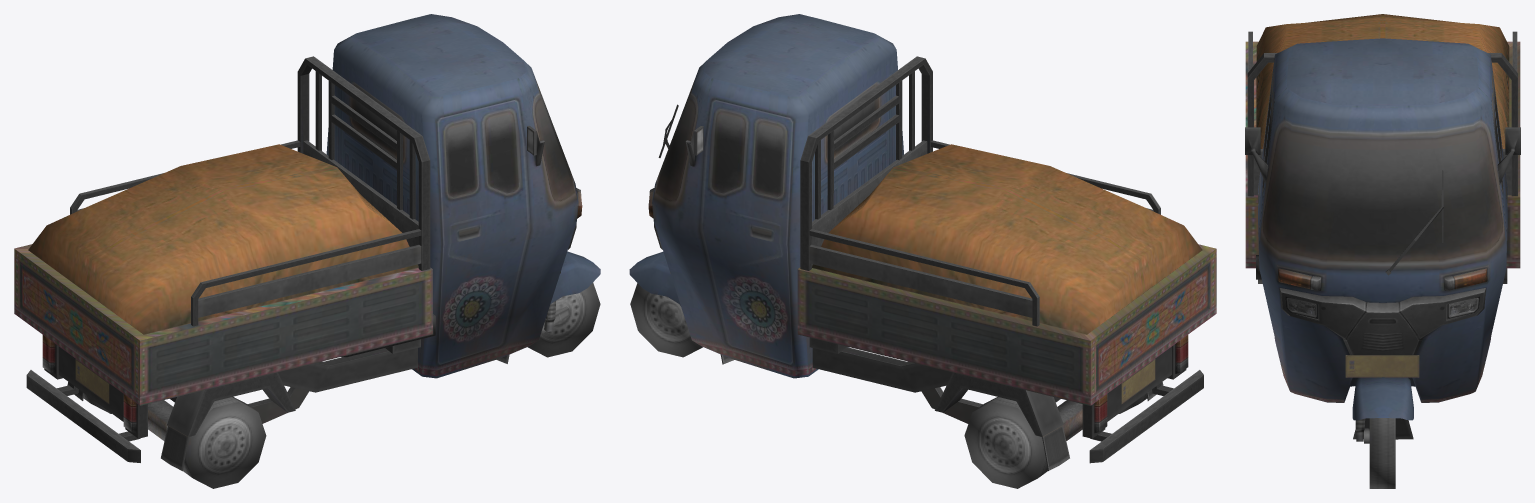
Rendered from sf_rickshaw_03.glb.
3 views of the same model, side by side, from view 1: azimuth 30°, elevation 25°; view 2: azimuth 150°, elevation 25°; view 3: azimuth 270°, elevation 25° (orthographic). The views are drawn at different scales.
Parts seen in each view (by area): view 1: Traffick_Rickshaw_03_Body, Traffick_Rickshaw_03_Wheel_Rear_R_Traffic_Rickshaw_Component, Traffick_Rickshaw_03_Wheel_Front_Traffic_Rickshaw_Component_; view 2: Traffick_Rickshaw_03_Body, Traffick_Rickshaw_03_Wheel_Rear_L_Traffic_Rickshaw_Component, Traffick_Rickshaw_03_Wheel_Front_Traffic_Rickshaw_Component_; view 3: Traffick_Rickshaw_03_Body, Traffick_Rickshaw_03_Wheel_Front_Traffic_Rickshaw_Component_, Traffick_Rickshaw_03_Light, Traffick_Rickshaw_03_Light_Turn_R, Traffick_Rickshaw_03_Light_Turn_L.
Boxes of the visible parts, x1,y1,x2,y2 form: Traffick_Rickshaw_03_Body: (14,14,600,471); Traffick_Rickshaw_03_Wheel_Rear_R_Traffic_Rickshaw_Component: (183,397,266,488); Traffick_Rickshaw_03_Wheel_Front_Traffic_Rickshaw_Component_: (527,282,600,357); Traffick_Rickshaw_03_Body: (629,14,1216,470); Traffick_Rickshaw_03_Wheel_Rear_L_Traffic_Rickshaw_Component: (964,397,1047,488); Traffick_Rickshaw_03_Wheel_Front_Traffic_Rickshaw_Component_: (630,283,702,357); Traffick_Rickshaw_03_Body: (1245,14,1520,443); Traffick_Rickshaw_03_Wheel_Front_Traffic_Rickshaw_Component_: (1369,418,1395,488); Traffick_Rickshaw_03_Light: (1285,276,1479,318); Traffick_Rickshaw_03_Light_Turn_R: (1278,268,1312,288); Traffick_Rickshaw_03_Light_Turn_L: (1453,268,1487,289).
Bounding box in the file's own units: 3.08 × 1.87 × 1.31.
Materials: 3 (3 with a texture image).
